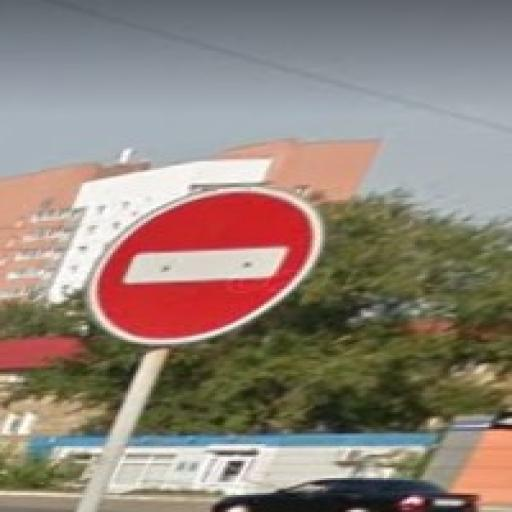traffic_sign: (86, 188, 329, 349)
